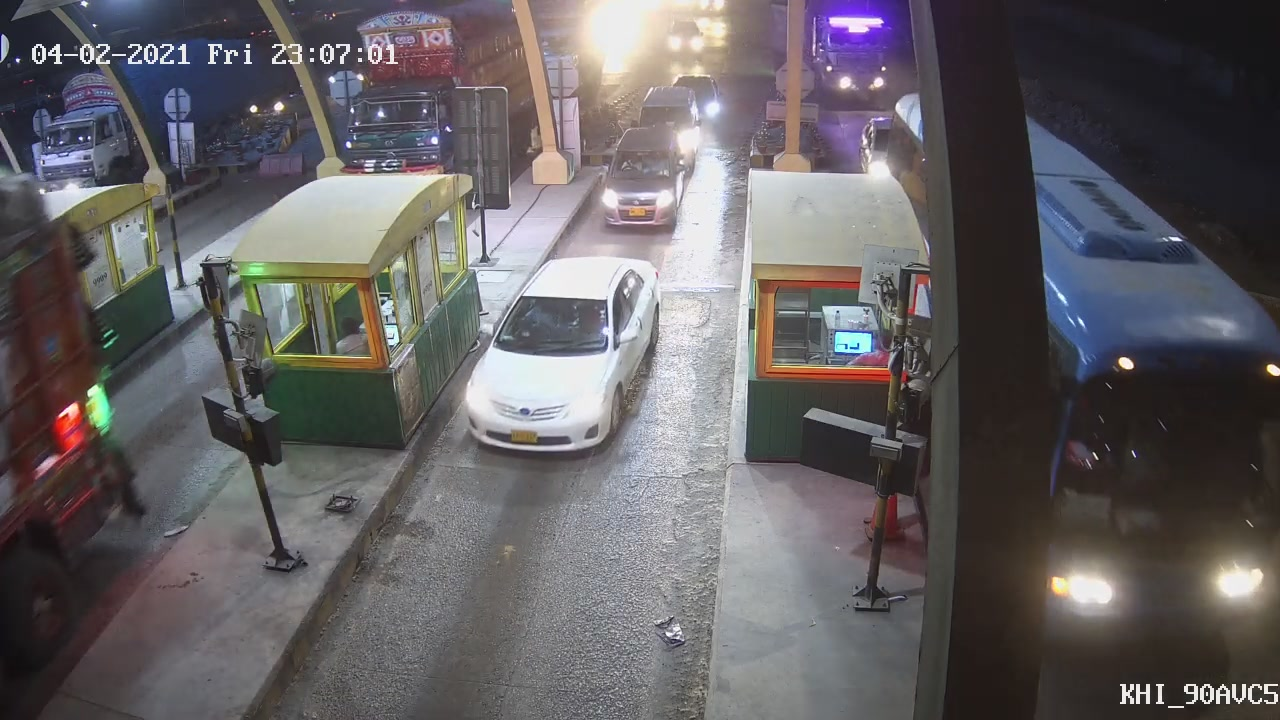F1: (456, 253, 660, 457), (598, 126, 688, 233)
